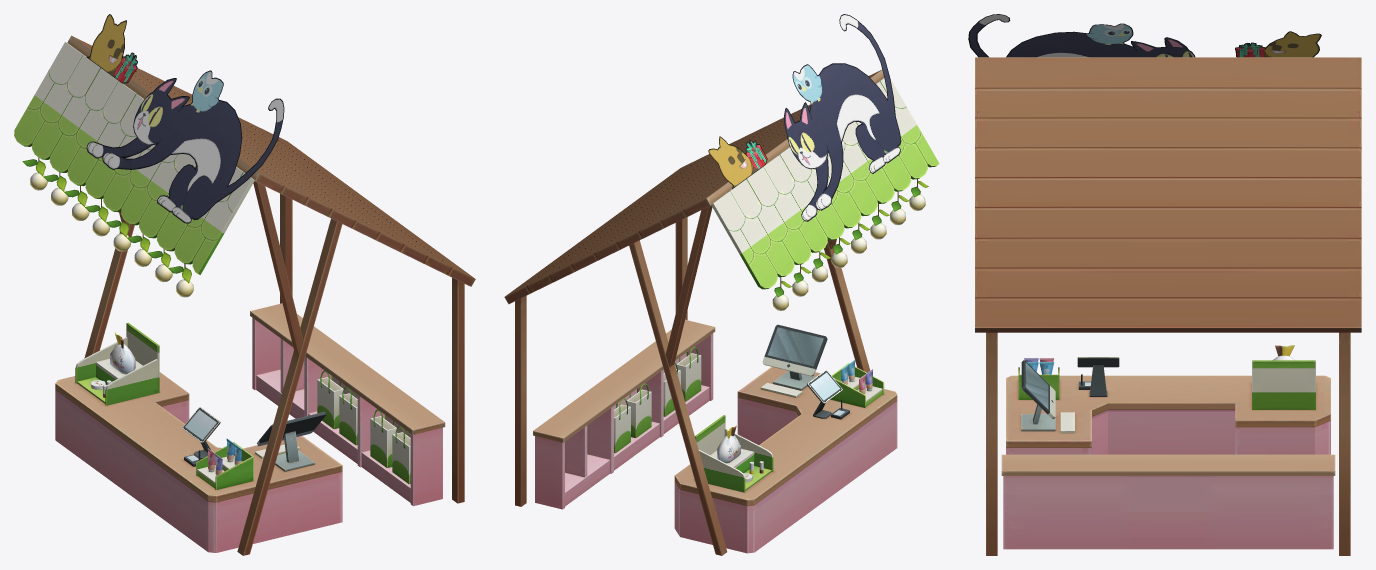
The model's file is my_shoppingmall_01_counter_01.glb.
3 renders of one model, left to right at view 1: azimuth 30°, elevation 25°; view 2: azimuth 150°, elevation 25°; view 3: azimuth 270°, elevation 25°, orthographic. The views are drawn at different scales.
Visible parts, largest first — view 1: my_shoppingmall_01_counter_01; view 2: my_shoppingmall_01_counter_01; view 3: my_shoppingmall_01_counter_01.
Boxes of the visible parts, <box> form: my_shoppingmall_01_counter_01: <box>14,14,475,555</box>; my_shoppingmall_01_counter_01: <box>504,14,939,555</box>; my_shoppingmall_01_counter_01: <box>968,14,1361,555</box>.
Bounding box in the file's own units: 0.0176 × 0.0266 × 0.021.
1 material, 1 textured.
